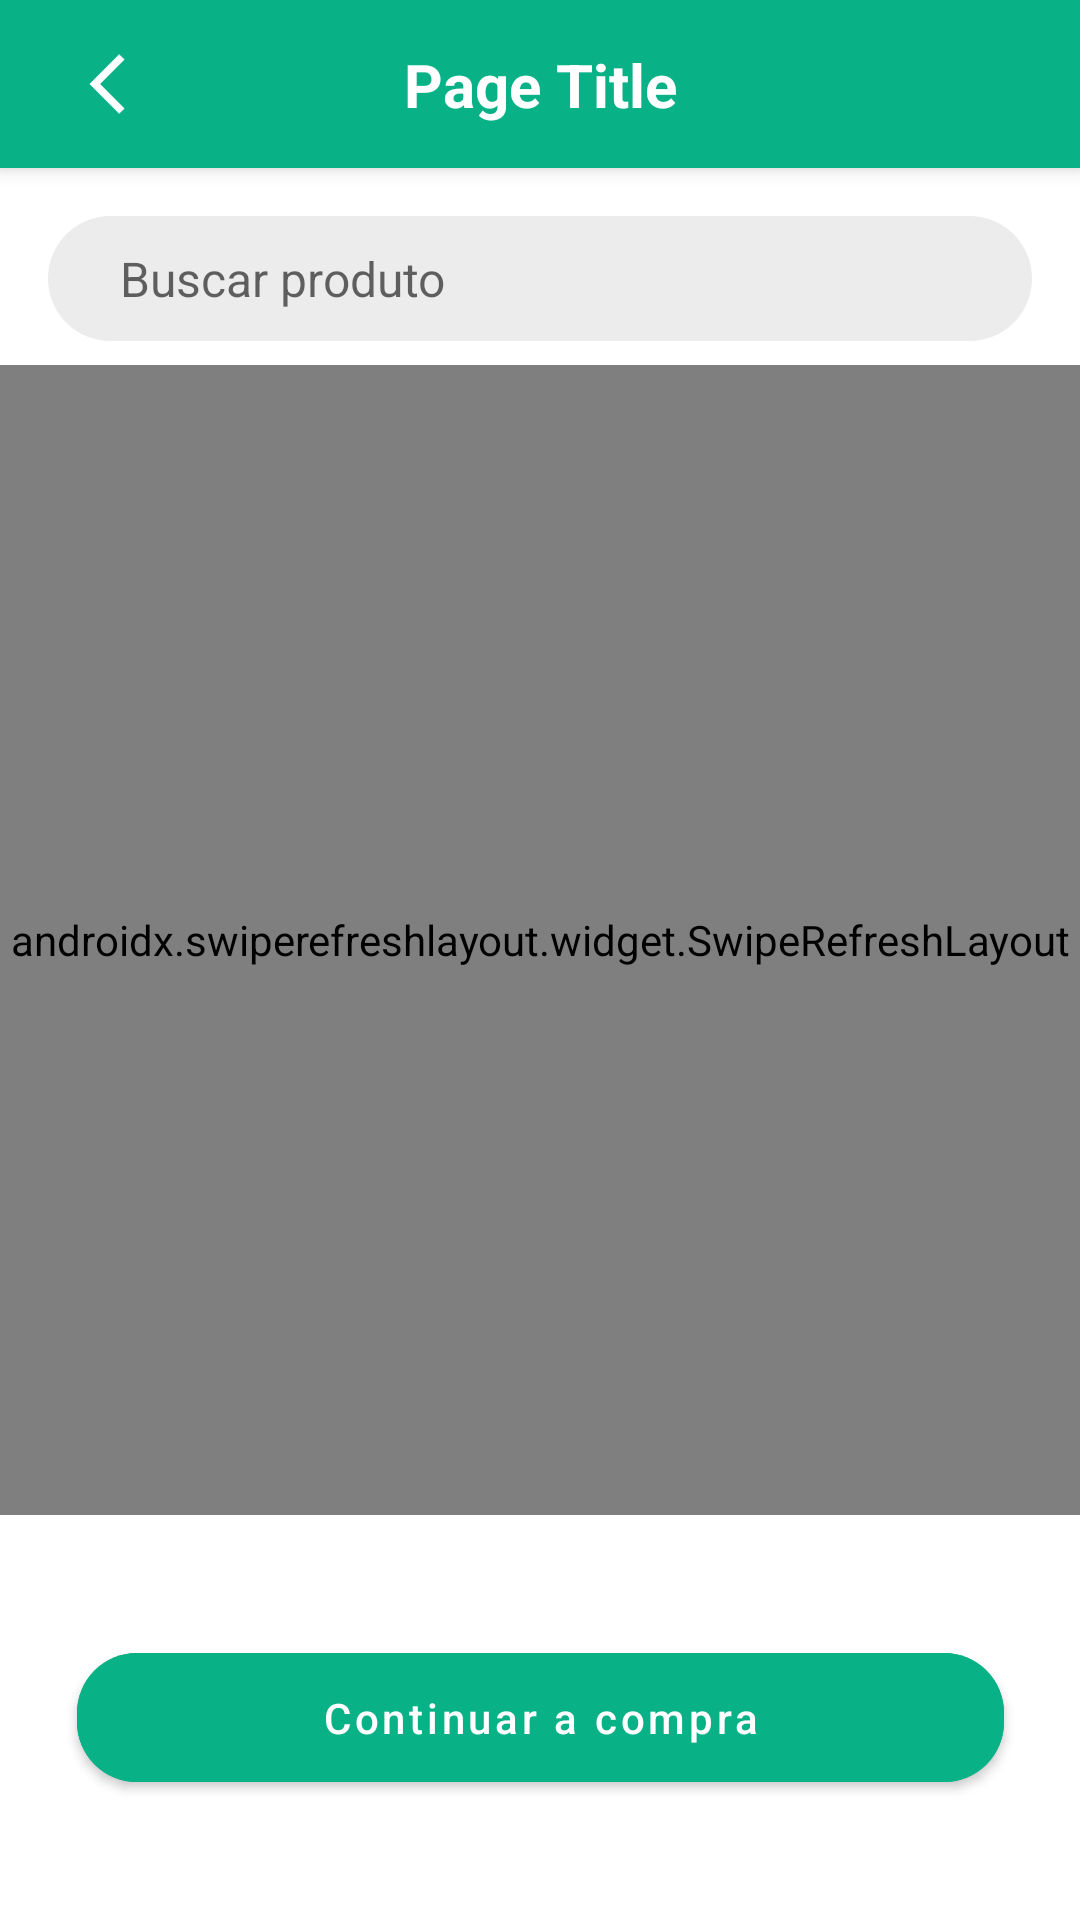

Named icons in this screenshot (1080x1920) and their bounding boxes, region(x1, y1, x2, y2):
arrow back: region(89, 54, 125, 114)
